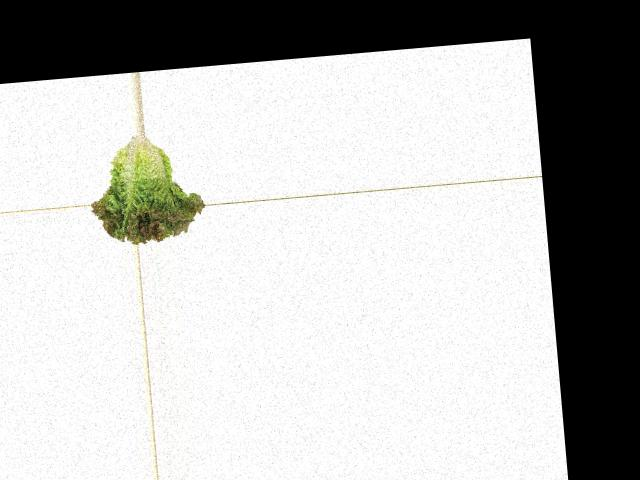lettuce: (86, 129, 207, 246)
